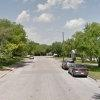Car: (58, 51, 90, 81)
